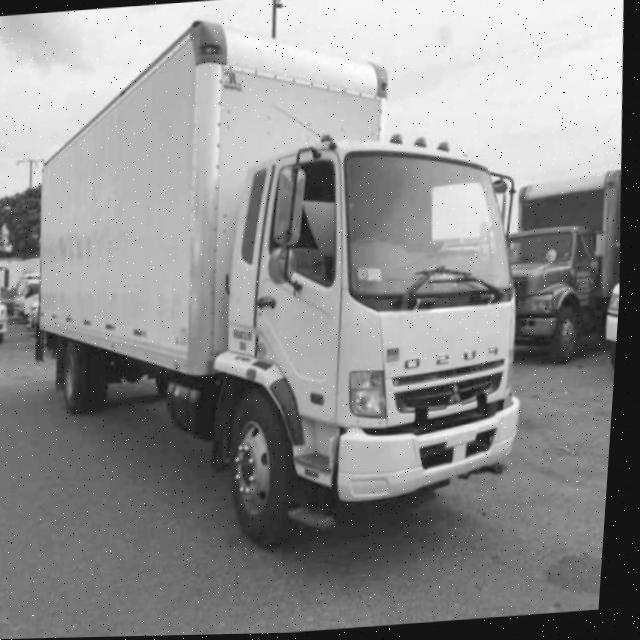truck: (17, 0, 554, 557)
